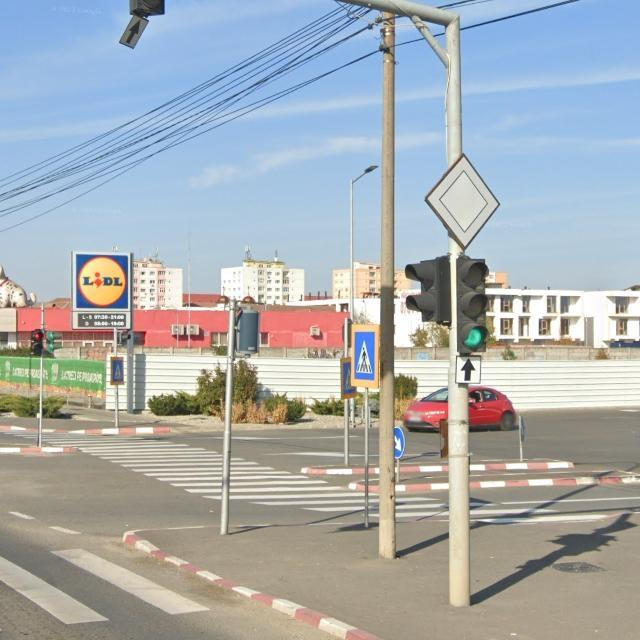info_crosswalk: (347, 321, 382, 390)
